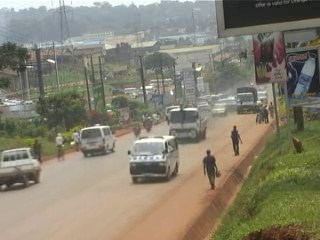Car: (208, 101, 228, 118), (195, 99, 212, 114)
Motorcycle: (131, 114, 142, 136), (143, 113, 154, 133)
